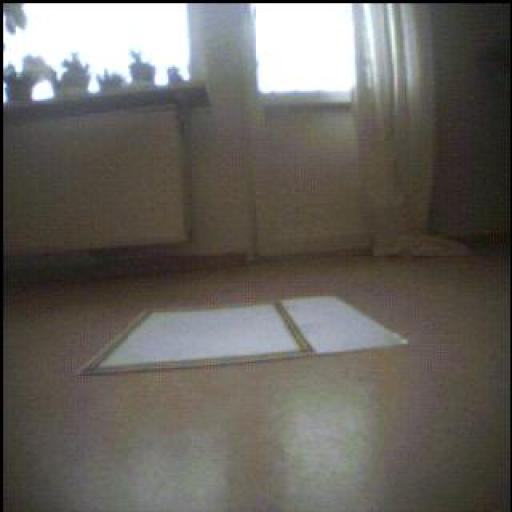Pad: (85, 297, 408, 375)
